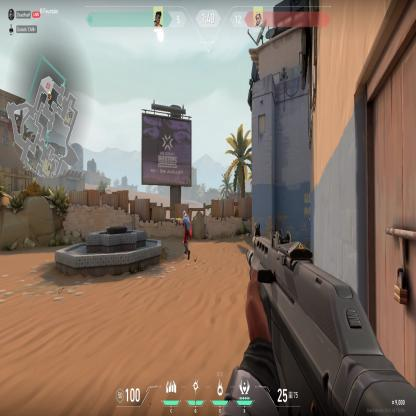enemy: (175, 208, 192, 263)
